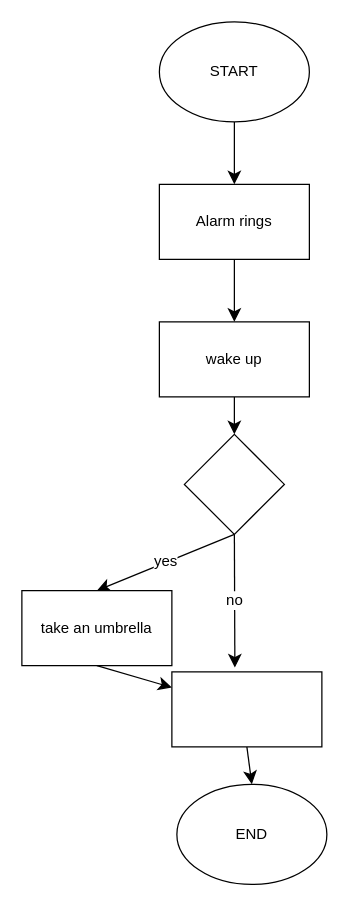
Some shapes in this 349 by 906 pixel diagram are drawn without their labels. Each missing label, with the centre of its shape:
"is it raining?" goes at pixel 233 483.
"leave the house" goes at pixel 246 709.
